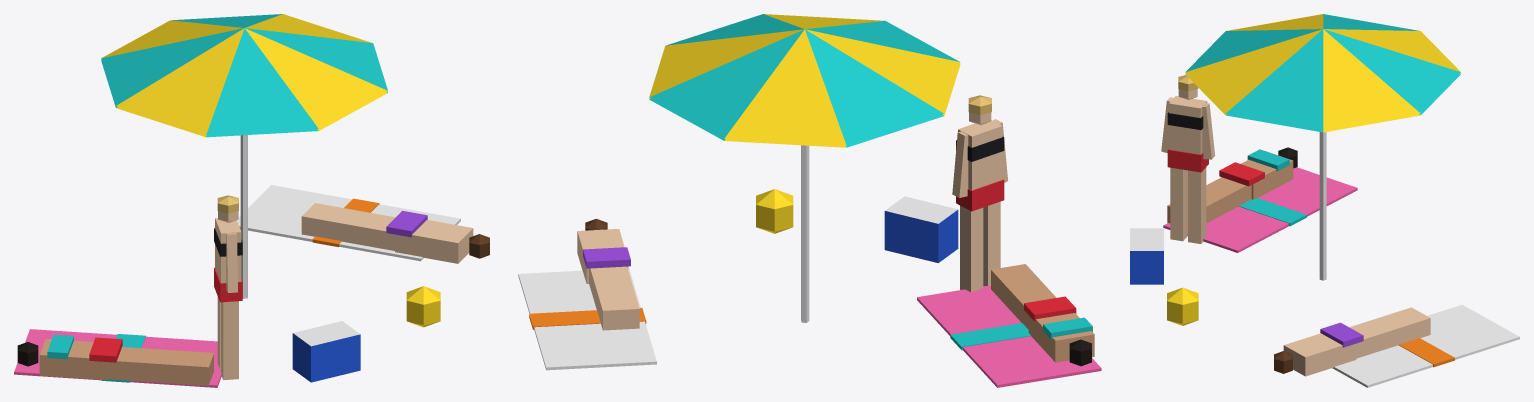
The model's file is playa_grupo_8.obj.
3 renders of one model, left to right at view 1: azimuth 30°, elevation 25°; view 2: azimuth 150°, elevation 25°; view 3: azimuth 270°, elevation 25°, orthographic. The views are drawn at different scales.
Visible parts, largest first — view 1: playa_grupo_8; view 2: playa_grupo_8; view 3: playa_grupo_8.
Boxes of the visible parts, x1,y1,x2,y2 form: playa_grupo_8: (14, 14, 489, 387); playa_grupo_8: (518, 14, 1101, 387); playa_grupo_8: (1130, 14, 1519, 387).
Size of the model in its own units: 4.97 by 2.6 by 3.67.
